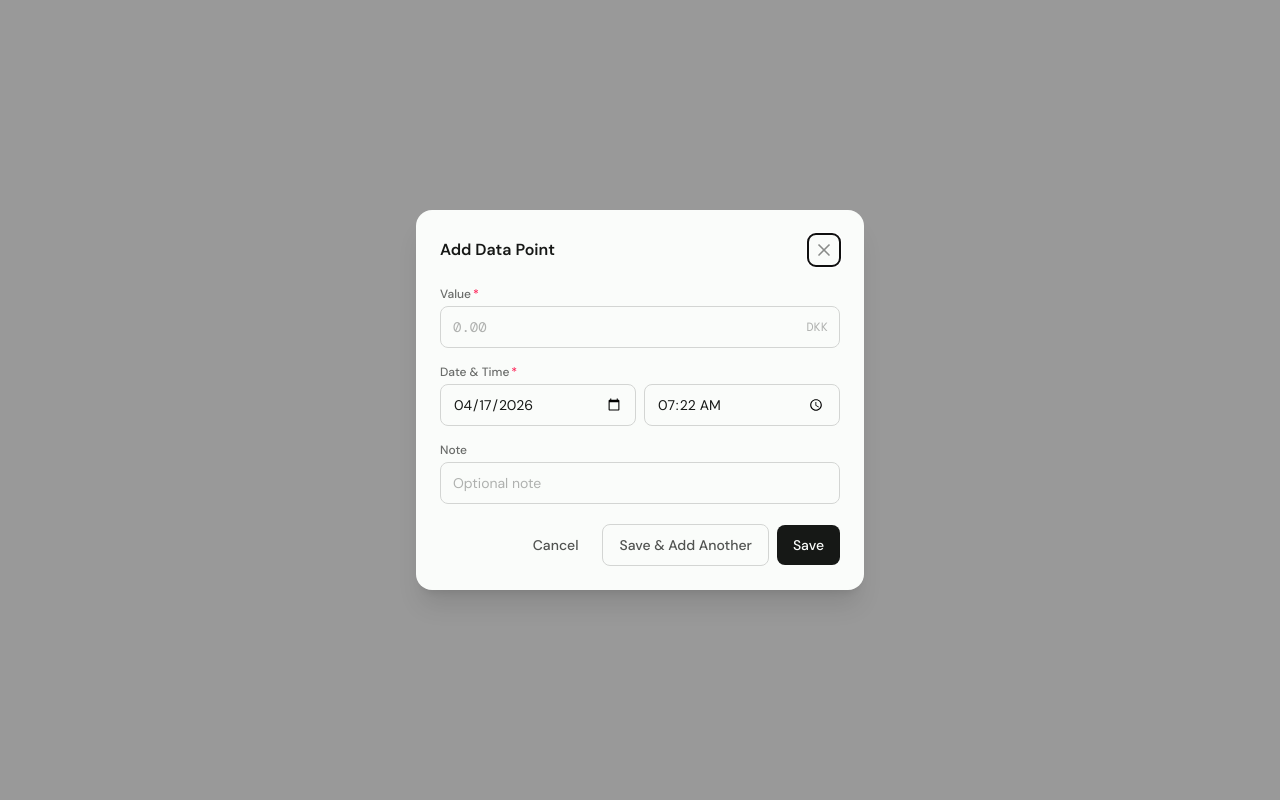
Test case: DataPointDialog › Validation › shows error when value is negative
Type "-5" into the number field with placeholder "0.00". click: (640, 327)
box: [440,306,840,348]
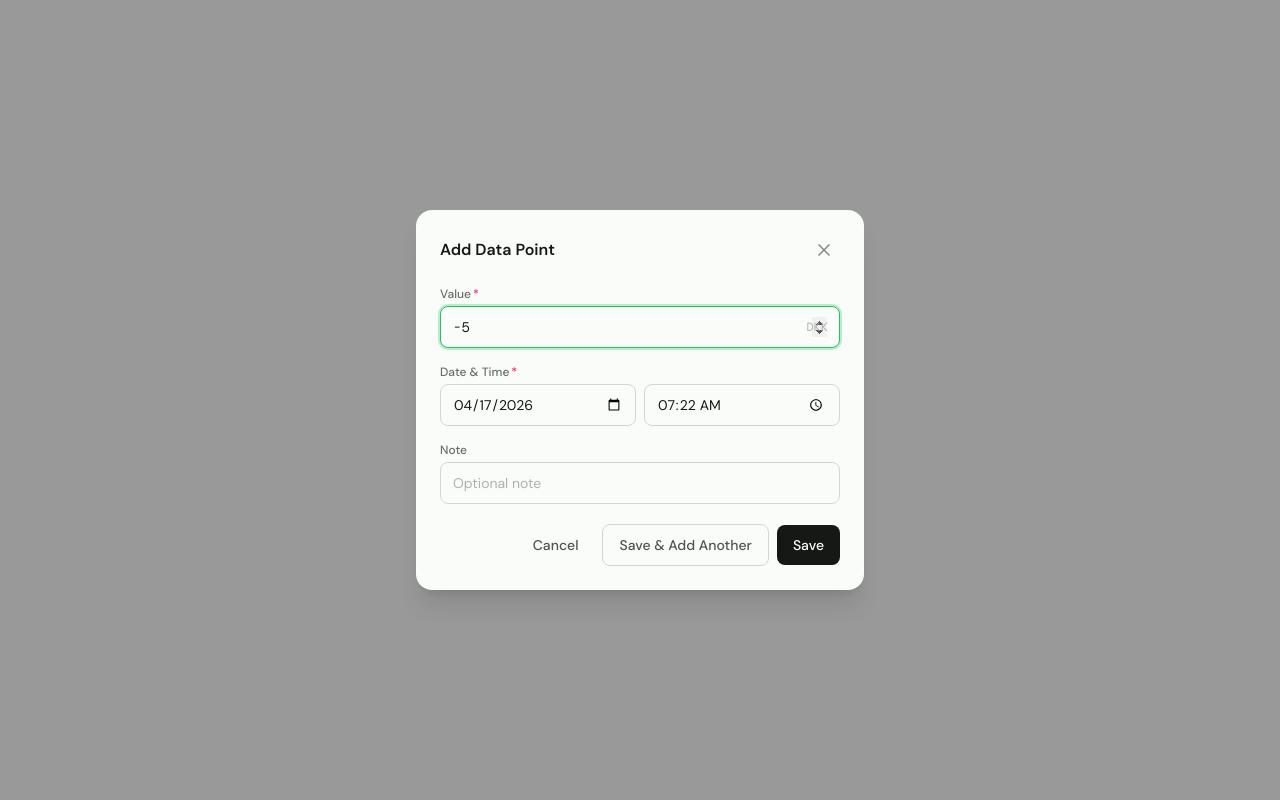
Click the button "Save". click: (808, 545)
box: [777,525,840,565]
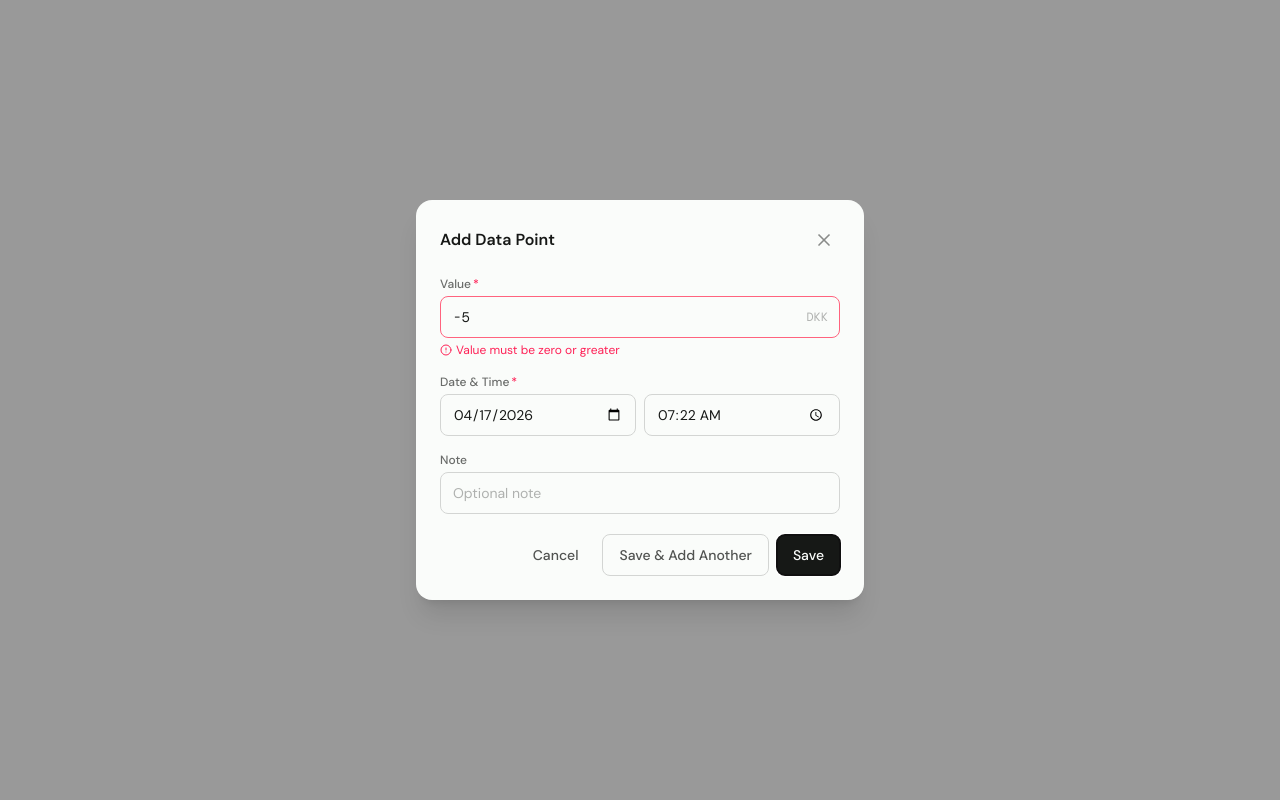
Expected: the text "Value must be zero or greater" is shown, [440,342,620,358]
